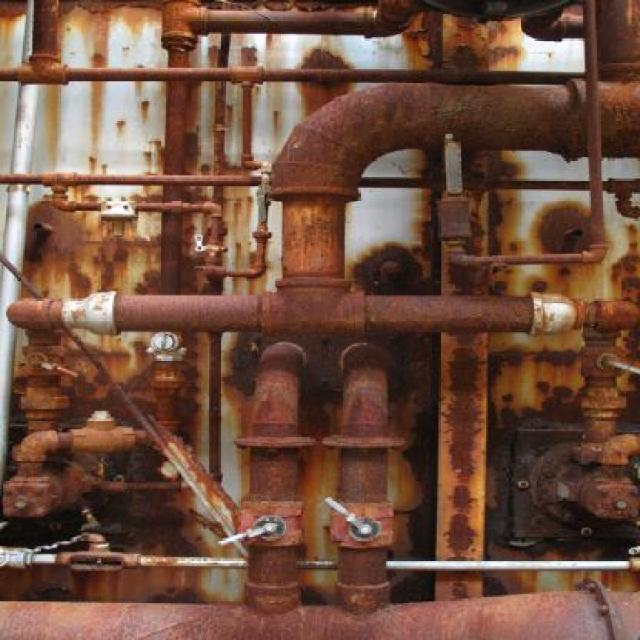corrosion: (0, 8, 640, 637)
